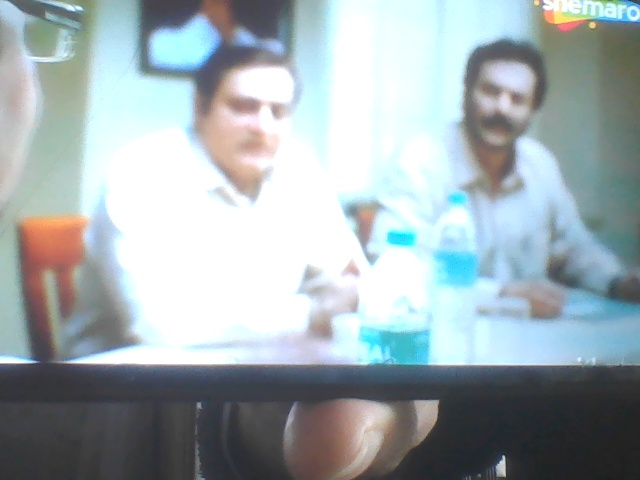fake: (189, 17, 310, 188)
